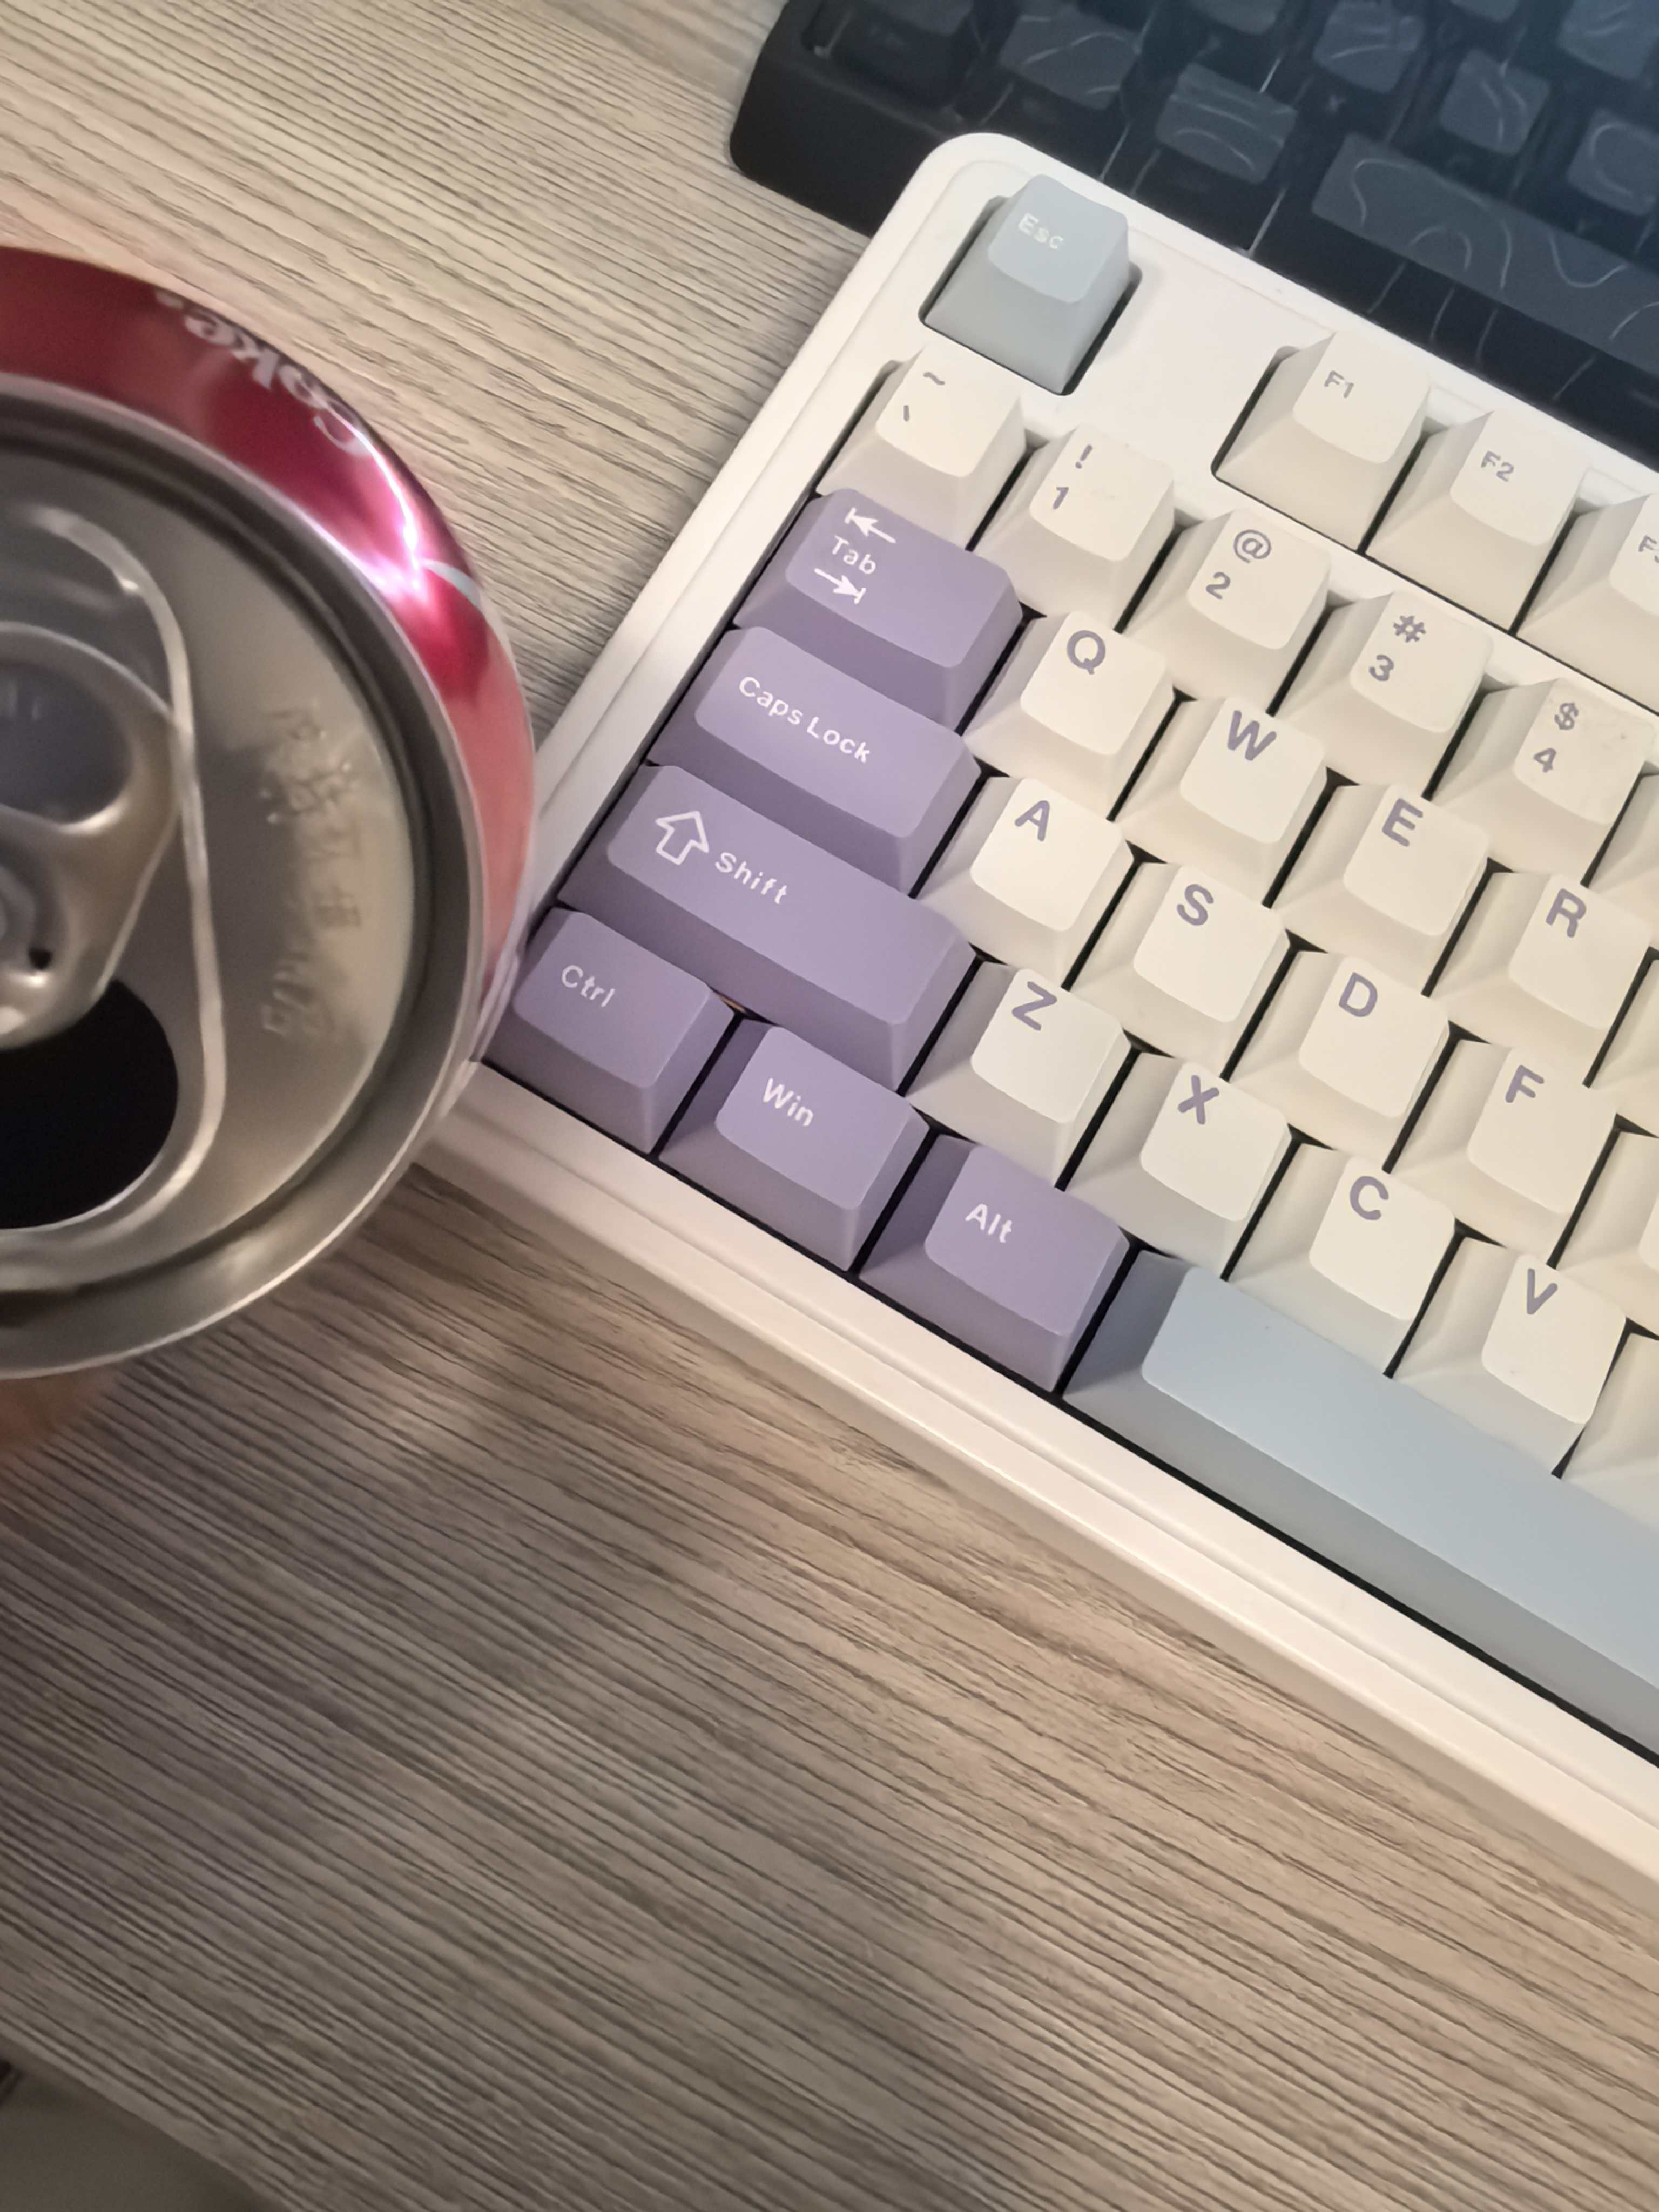可乐: (6, 195, 573, 1464)
